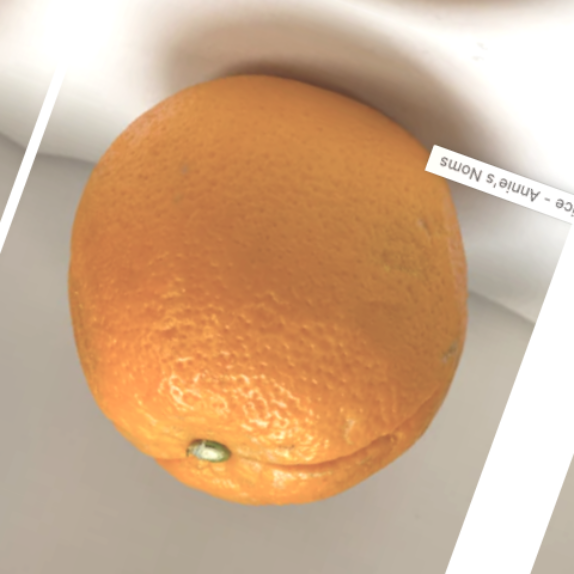orange: (0, 15, 563, 574)
